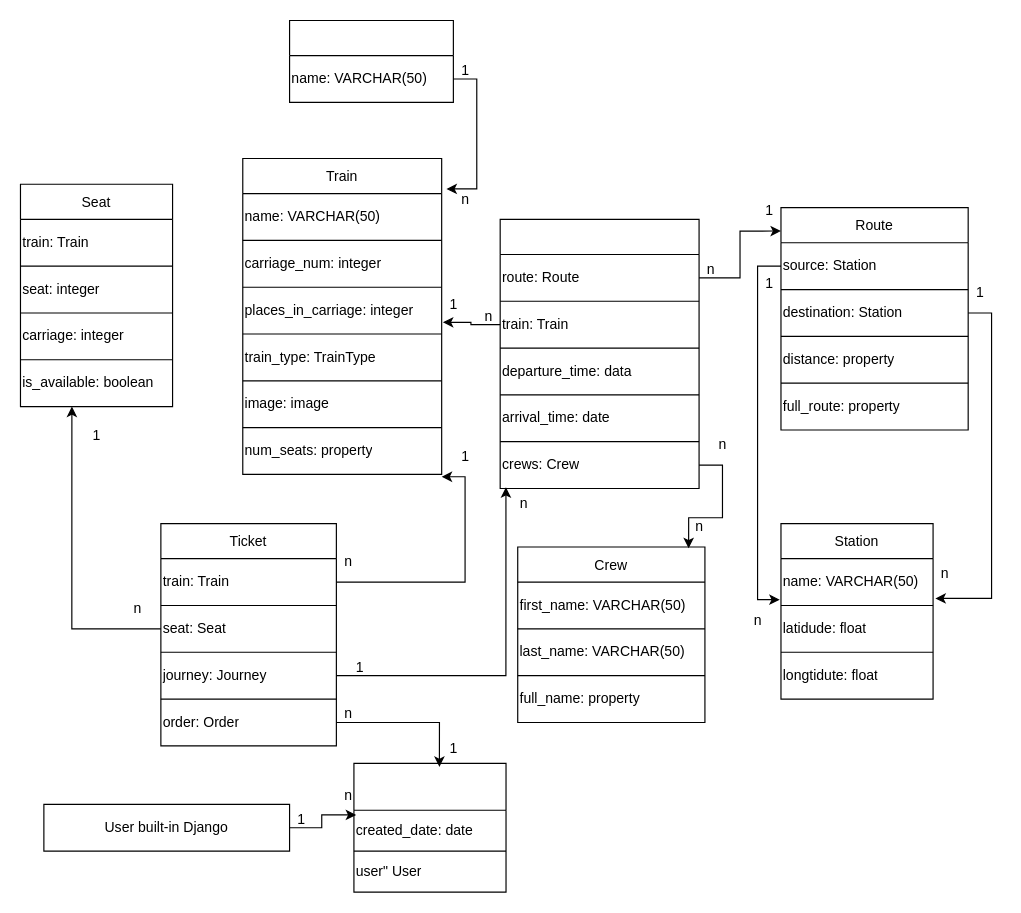
Image size: 1021x913. Some labels were removed from this diagram. The box of each missing label's shape, as (x1, y1, x2, y2) in pixels:
Journey: (499, 218, 699, 488)
Order: (353, 762, 506, 892)
TrainType: (288, 19, 453, 102)
